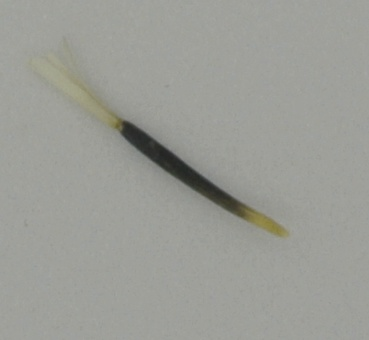เมล็ดดีเรียวยาว: (24, 40, 293, 239)
